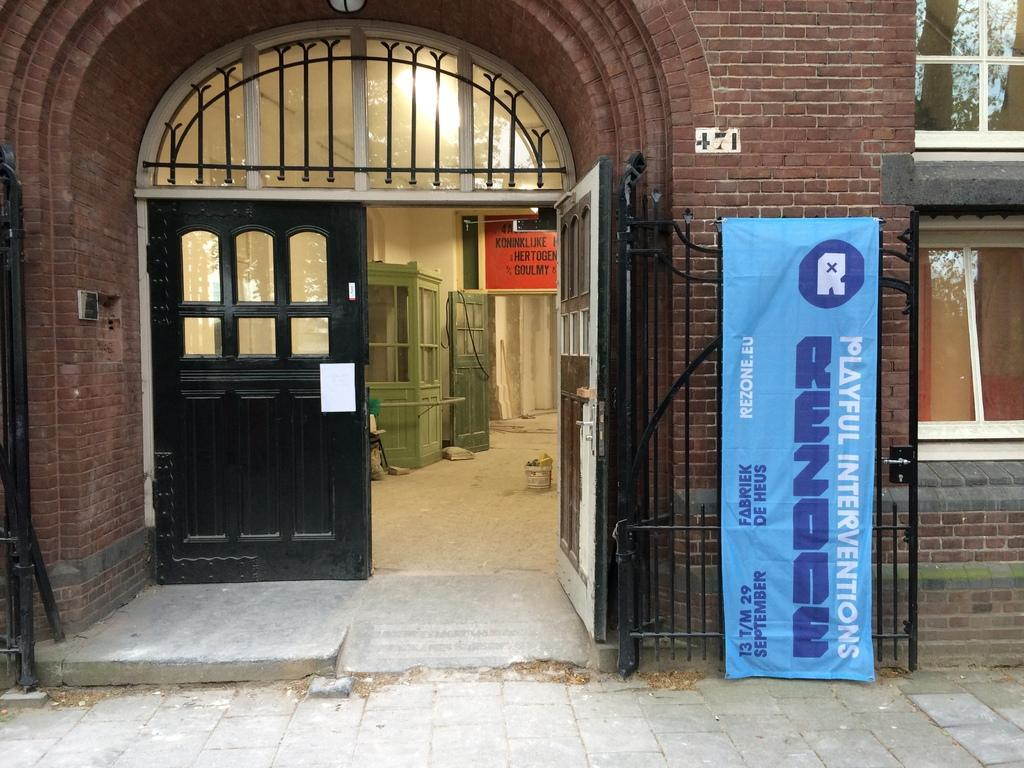door: (650, 216, 920, 664), (154, 208, 360, 571), (557, 209, 601, 620), (451, 294, 489, 451)
handle: (886, 446, 916, 472)
